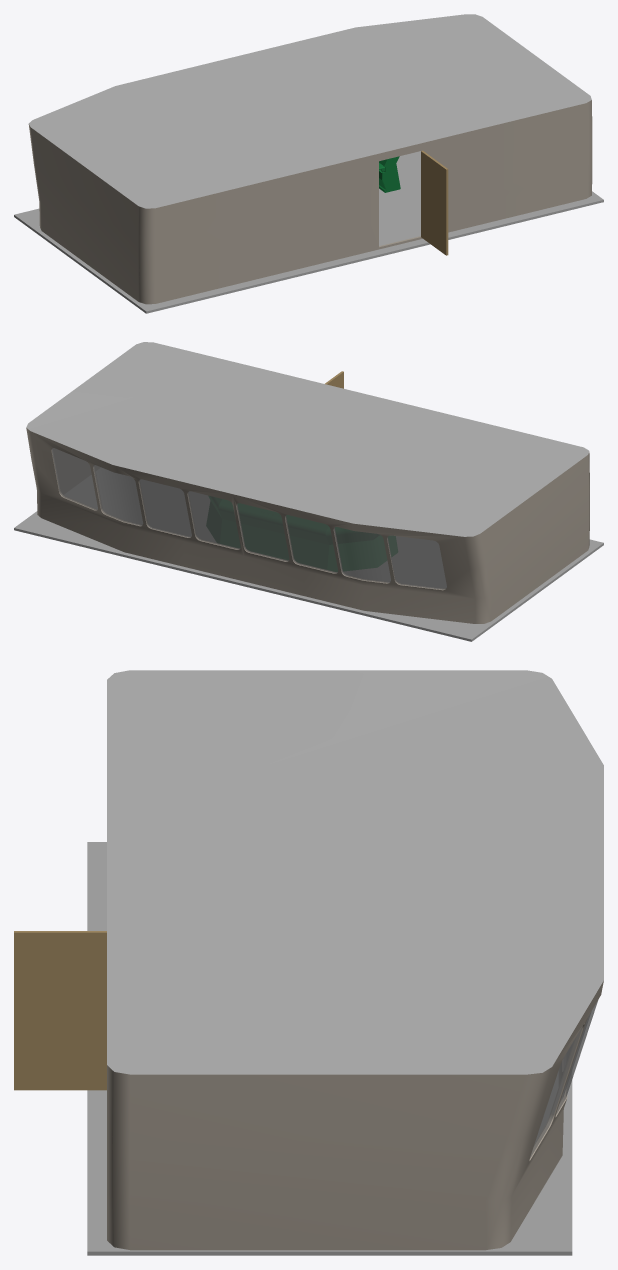
Rendered from command bridge cleaned w moving handles 1.fbx.
3 renders of one model, top to bottom at view 1: azimuth 30°, elevation 25°; view 2: azimuth 150°, elevation 25°; view 3: azimuth 270°, elevation 25°, orthographic. The views are drawn at different scales.
Parts seen in each view (by area): view 1: command_bridge, floor, door, console_ends; view 2: command_bridge, windows1, floor, console_base, main_console_back_panel; view 3: command_bridge, door, floor, windows1.
Part boxes in pixels (x1,y1,x2,y2): command_bridge: (28, 14, 592, 304); floor: (14, 151, 603, 313); door: (421, 150, 448, 255); console_ends: (382, 156, 400, 192); command_bridge: (26, 342, 589, 623); windows1: (51, 448, 446, 589); floor: (14, 468, 603, 641); console_base: (206, 496, 397, 571); main_console_back_panel: (257, 521, 290, 559); command_bridge: (107, 670, 603, 1250); door: (14, 931, 106, 1090); floor: (87, 842, 572, 1255); windows1: (530, 1000, 598, 1157).
Size of the model in its own units: 1175 by 241 by 716.
